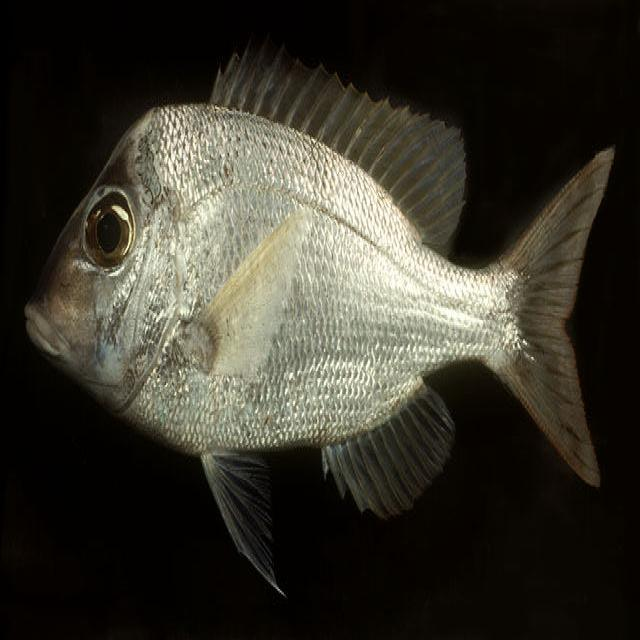ikan: (23, 38, 616, 600)
